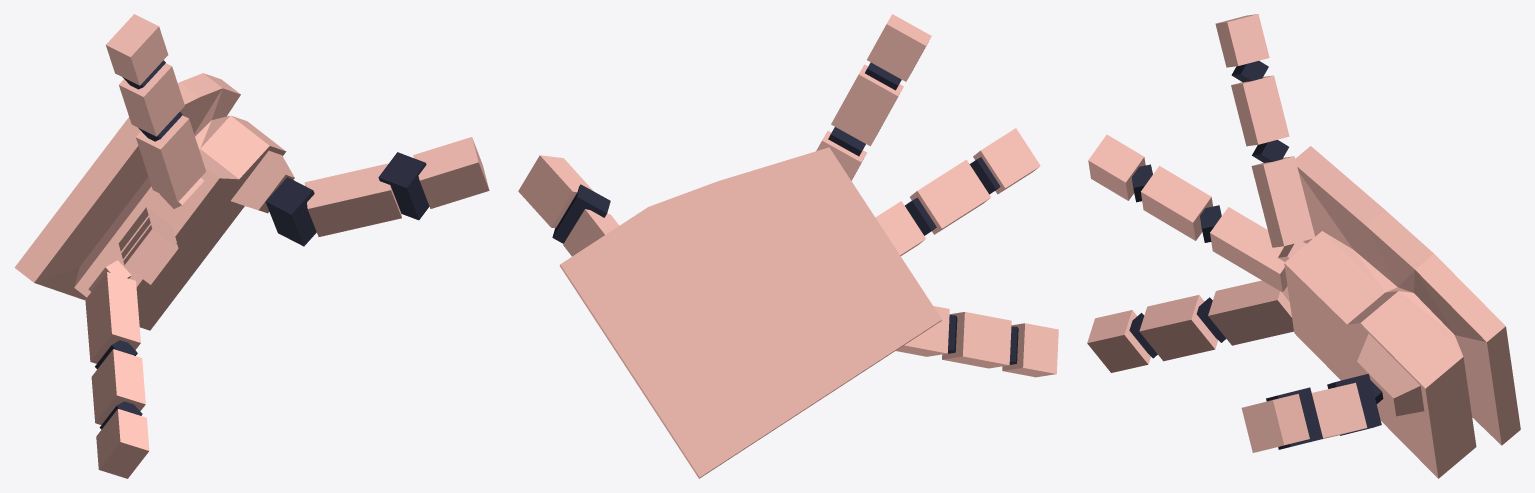
File: hand.FBX
3 renders of one model, left to right at view 1: azimuth 30°, elevation 25°; view 2: azimuth 150°, elevation 25°; view 3: azimuth 270°, elevation 25°, orthographic. The views are drawn at different scales.
Parts seen in each view (by area): view 1: Box052, Box015; view 2: Box015, Box052; view 3: Box052, Box015, Box046, Box053.
Boxes of the visible parts, <box> form: Box052: <box>85,14,489,478</box>; Box015: <box>14,73,286,330</box>; Box015: <box>559,147,941,478</box>; Box052: <box>518,14,1058,377</box>; Box052: <box>1087,14,1424,452</box>; Box015: <box>1284,146,1520,478</box>; Box046: <box>1252,140,1288,162</box>; Box053: <box>1131,164,1152,202</box>.
Bounding box in the file's own units: 12.04 × 10.07 × 9.58.
